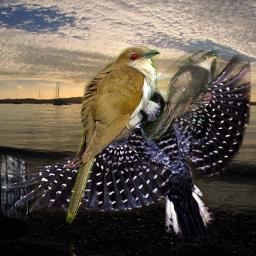Cuckoo: (65, 46, 161, 224), (142, 50, 221, 143)
Woodpecker: (1, 55, 251, 239)
